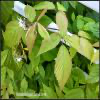Raspberry leaf: (54, 44, 72, 93), (35, 31, 63, 56), (63, 34, 85, 54), (54, 9, 68, 40)
